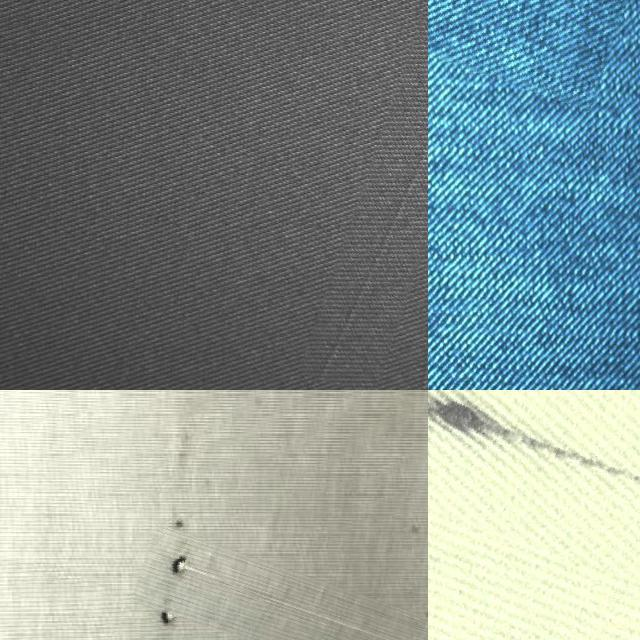stains: (428, 390, 640, 572), (349, 0, 428, 390), (131, 553, 428, 640)
